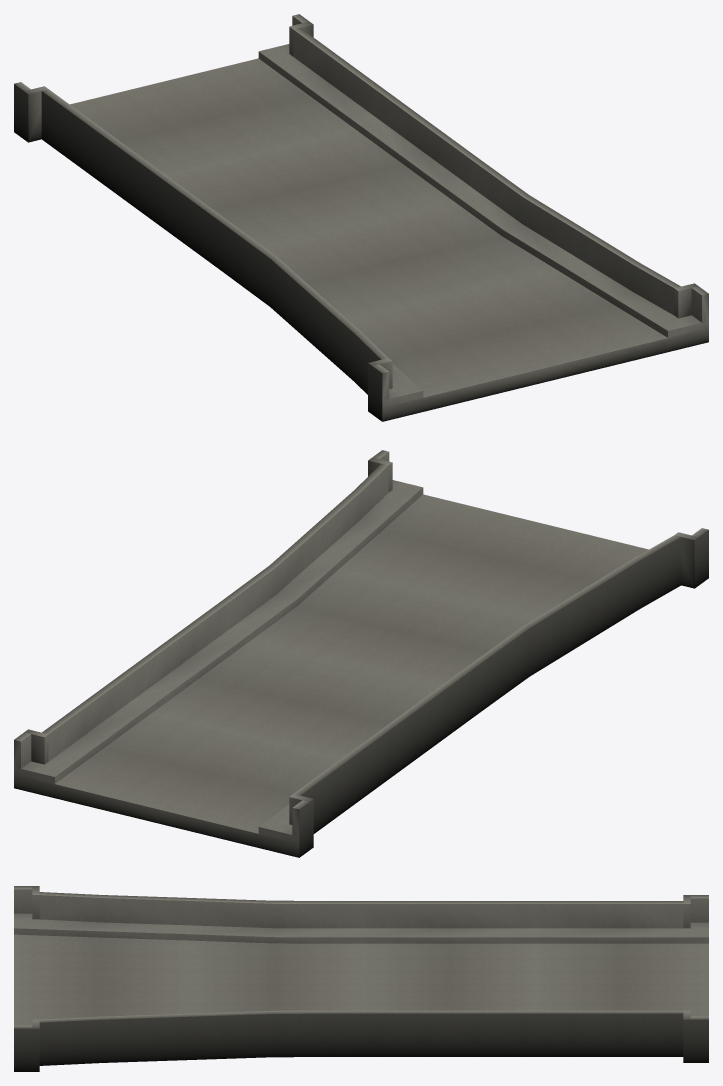
The model's file is 2RAIL_TO_TOYONAKA.glb.
3 renders of one model, top to bottom at view 1: azimuth 30°, elevation 25°; view 2: azimuth 150°, elevation 25°; view 3: azimuth 270°, elevation 25°, orthographic. The views are drawn at different scales.
Parts seen in each view (by area): view 1: obj4; view 2: obj4; view 3: obj4.
Part boxes in pixels (box(x1,y1,x2,y2)): obj4: box(14, 14, 708, 421); obj4: box(14, 450, 708, 857); obj4: box(14, 886, 708, 1071).
Size of the model in its own units: 48.48 by 6.88 by 100.
1 material, 1 textured.
